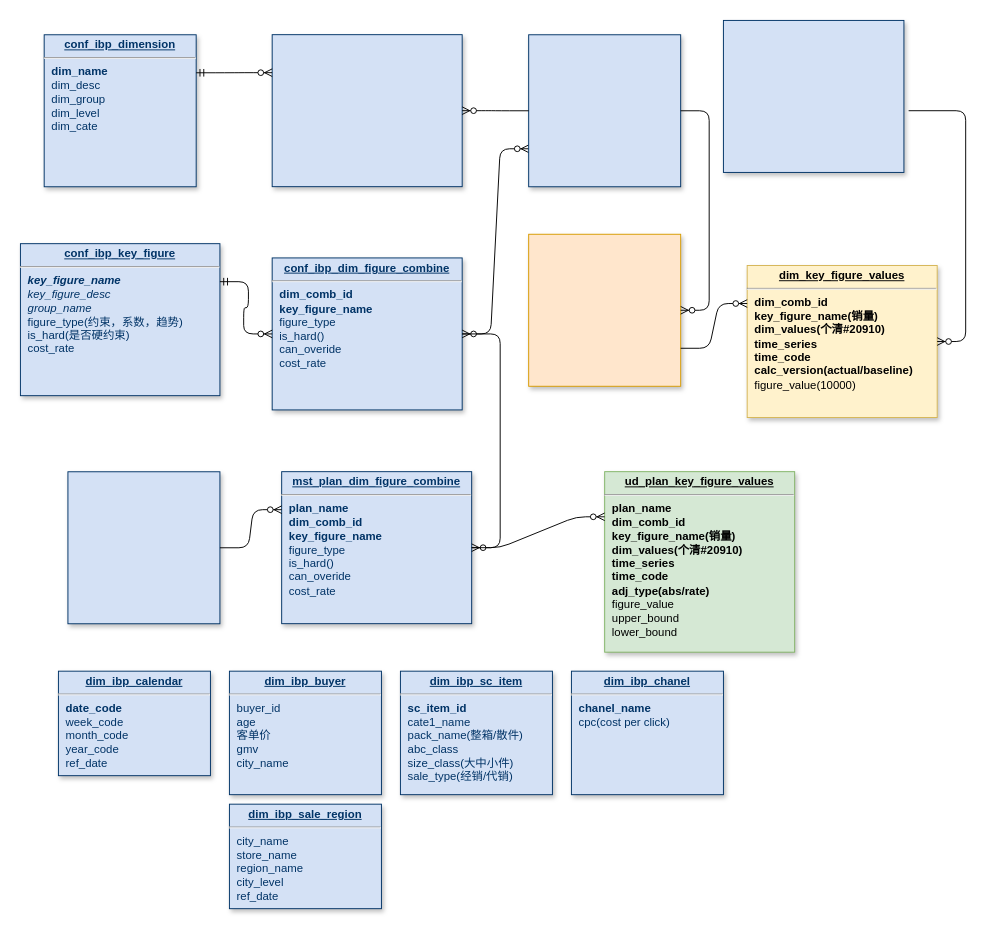
This 990x932 diagram has some shape labels left out. Here are the shapes that lost their labels. From the top down, the centre of each, then its label:
the point at 367,111: conf_ibp_dim_combine_detail dim_comb_id dim_name dim_seq
the point at 605,111: conf_ibp_dim_combine dim_comb_id dim_names(类目#全国)
the point at 814,97: dim_time_series time_series(2019M/W/D) time_code show_name
the point at 605,311: dim_combine_values dim_comb_id dim_values(个清#全国)
the point at 144,548: mst_plan plan_name plan_desc time_series start_cal_code
